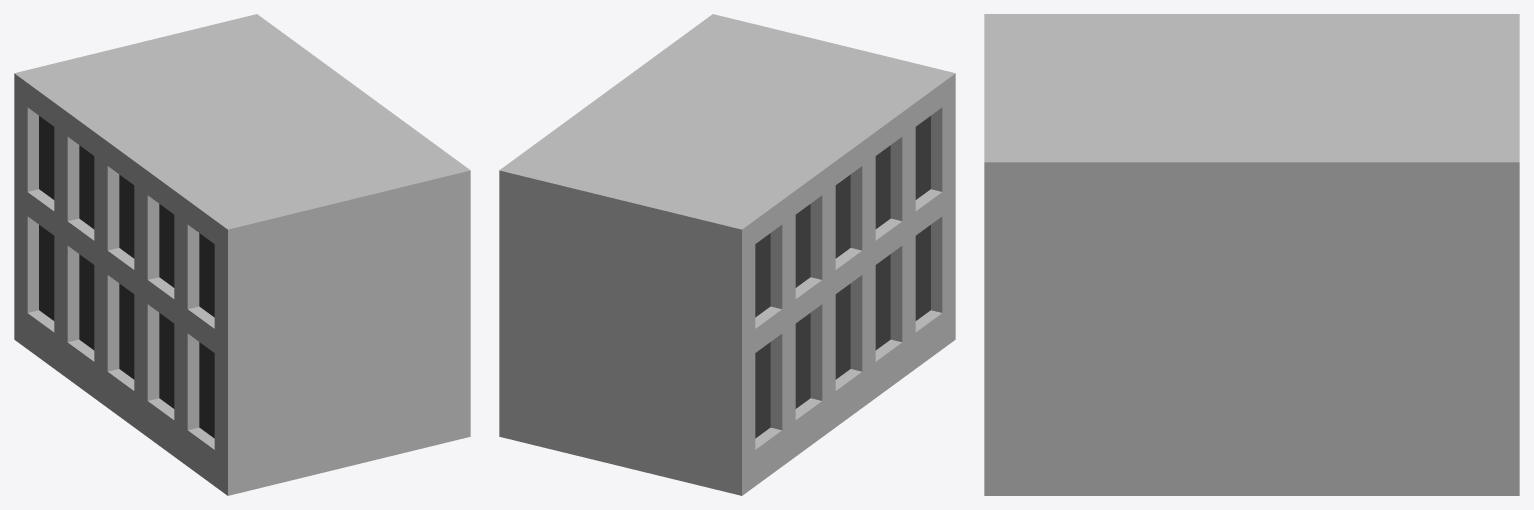
File: cars-14-SideHospital.obj
3 renders of one model, left to right at view 1: azimuth 30°, elevation 25°; view 2: azimuth 150°, elevation 25°; view 3: azimuth 270°, elevation 25°, orthographic. The views are drawn at different scales.
Parts seen in each view (by area): view 1: SideHospital; view 2: SideHospital; view 3: SideHospital.
Part boxes in pixels (x1,y1,x2,y2): SideHospital: (14, 14, 470, 495); SideHospital: (499, 14, 955, 495); SideHospital: (984, 14, 1519, 495).
Size of the model in its own units: 2.1 by 2.2 by 3.2.
1 material, 1 textured.
